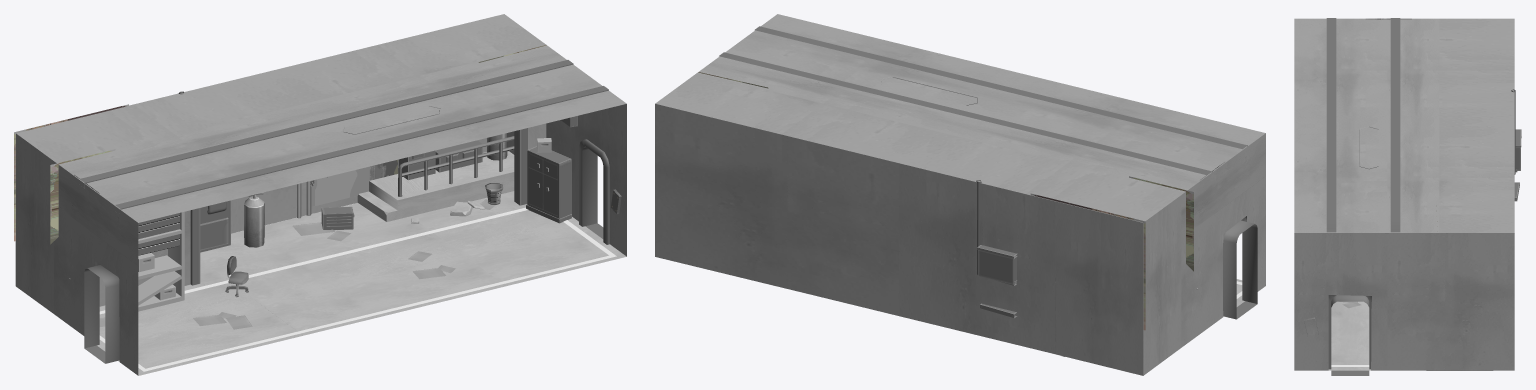
File: MSH_QuestVault_L3_R2_optimized.fbx
3 renders of one model, left to right at view 1: azimuth 30°, elevation 25°; view 2: azimuth 150°, elevation 25°; view 3: azimuth 270°, elevation 25°, orthographic. The views are drawn at different scales.
Visible parts, largest first — view 1: lightmap2, lightmap4, lightmap1, lightmap3, lightmap0, MSH_QuestVault_L3_R2_dirt_01, MSH_QuestVault_L3_R2_papers_01; view 2: lightmap2, lightmap4, lightmap3, lightmap0, lightmap1, MSH_QuestVault_L3_R2_dirt_01; view 3: lightmap4, lightmap2, lightmap3, lightmap1, lightmap0.
Part boxes in pixels (<box>): lightmap2: <box>15,104,626,375</box>; lightmap4: <box>16,14,626,222</box>; lightmap1: <box>99,106,621,371</box>; lightmap3: <box>80,60,608,306</box>; lightmap0: <box>84,91,603,363</box>; MSH_QuestVault_L3_R2_dirt_01: <box>14,45,546,265</box>; MSH_QuestVault_L3_R2_papers_01: <box>99,199,495,329</box>; lightmap2: <box>655,104,1265,375</box>; lightmap4: <box>655,14,1265,222</box>; lightmap3: <box>719,26,1247,175</box>; lightmap0: <box>976,180,1257,319</box>; lightmap1: <box>881,77,1246,356</box>; MSH_QuestVault_L3_R2_dirt_01: <box>698,72,1225,330</box>; lightmap4: <box>1294,18,1514,232</box>; lightmap2: <box>1294,233,1514,370</box>; lightmap3: <box>1326,18,1400,232</box>; lightmap1: <box>1304,126,1521,369</box>; lightmap0: <box>1331,89,1515,375</box>.
Bounding box in the file's own units: 20.6 × 5.99 × 8.79.
4 materials, 4 textured.
